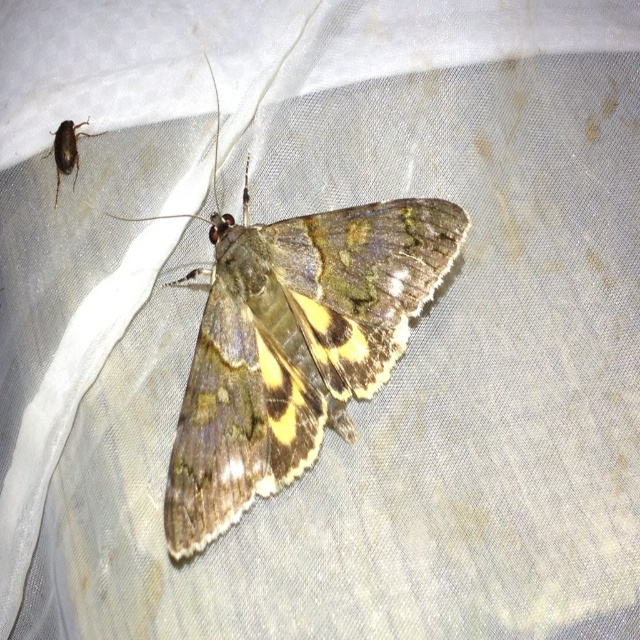Butterfly: (140, 151, 469, 554)
